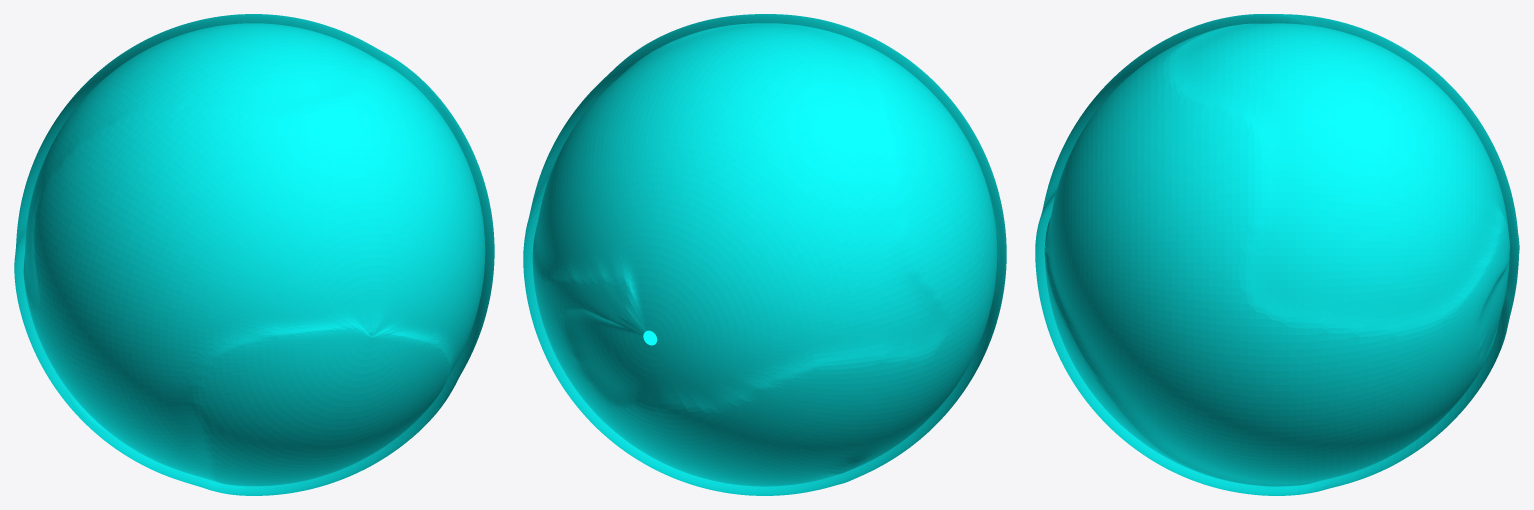
3 views of the same model, side by side, from view 1: azimuth 30°, elevation 25°; view 2: azimuth 150°, elevation 25°; view 3: azimuth 270°, elevation 25° (orthographic).
Visible parts, largest first — view 1: Renderer Node; view 2: Renderer Node; view 3: Renderer Node.
Part boxes in pixels (x1,y1,x2,y2): Renderer Node: [14, 14, 494, 495]; Renderer Node: [523, 14, 1006, 495]; Renderer Node: [1035, 14, 1519, 495].
Size of the model in its own units: 5.48e+11 by 5.46e+11 by 5.5e+11.
